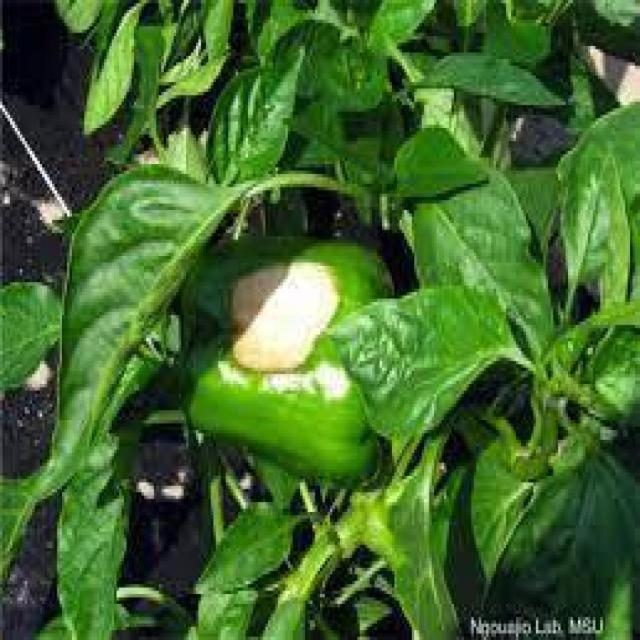Sunscald Fruit: (137, 83, 297, 333)
